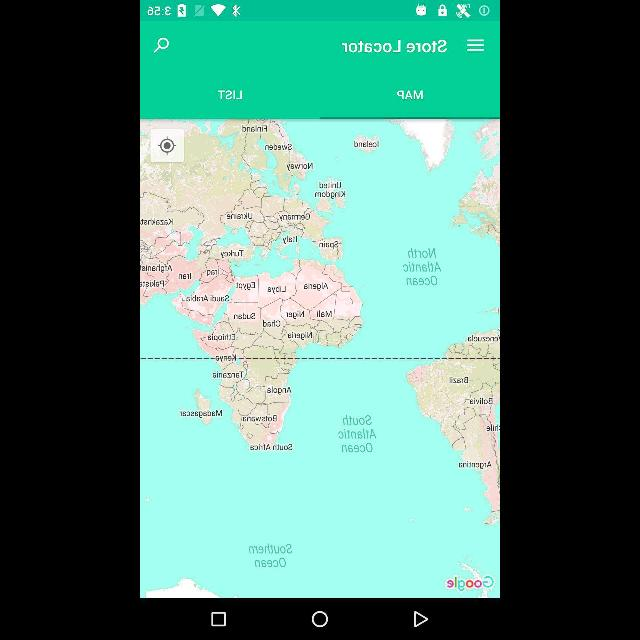icon: (414, 607, 431, 629), (464, 38, 486, 54), (210, 610, 228, 628), (153, 36, 170, 54), (312, 611, 330, 627), (160, 139, 174, 155)
map: (140, 119, 500, 597)
multitab: (140, 70, 500, 118)
panel: (141, 598, 499, 640)
text: (342, 37, 448, 54)
toolbar: (140, 19, 500, 69)
uppertaskbar: (142, 0, 500, 18)
